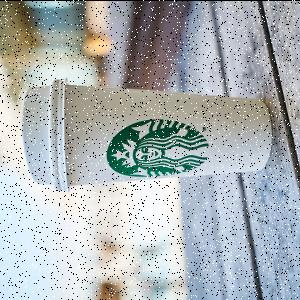Cup: (21, 77, 273, 193)
